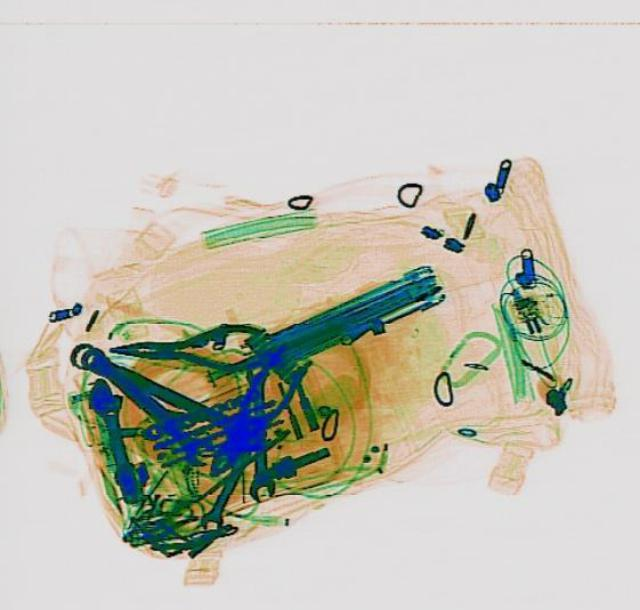Pliers: (108, 319, 262, 372)
Wrench: (70, 337, 222, 468), (79, 371, 147, 504), (196, 438, 256, 531), (242, 365, 276, 500)
